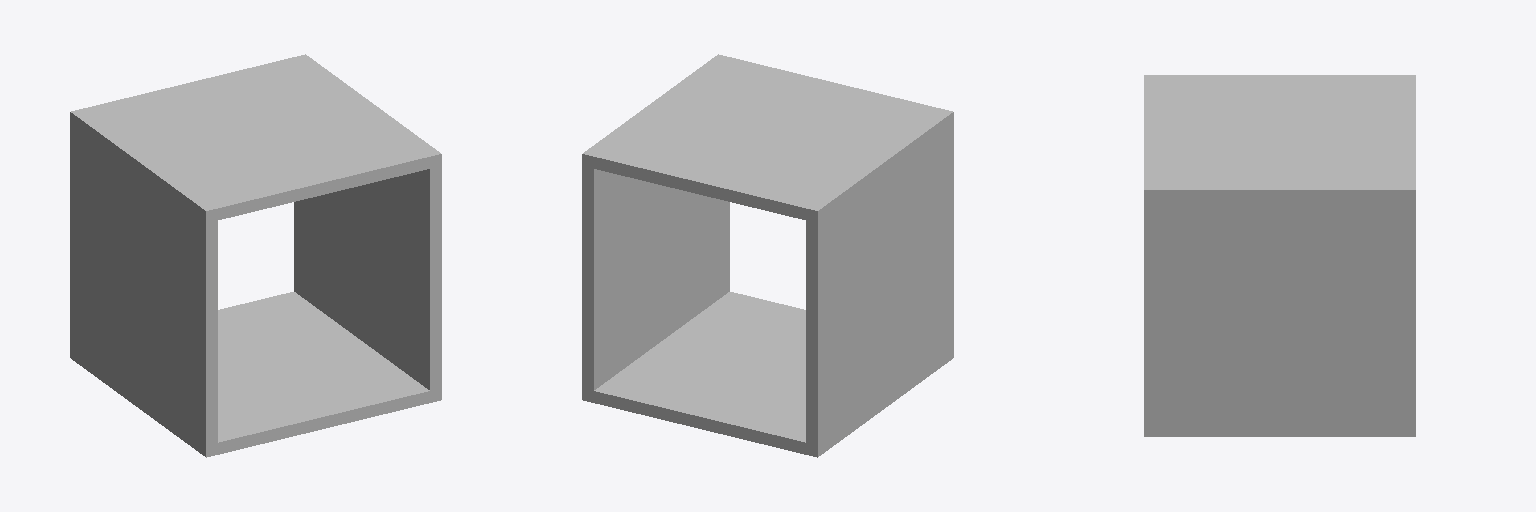
The model's file is HollowCube.obj.
3 views of the same model, side by side, from view 1: azimuth 30°, elevation 25°; view 2: azimuth 150°, elevation 25°; view 3: azimuth 270°, elevation 25° (orthographic).
Parts seen in each view (by area): view 1: Mesh1 Component_3_1 Model; view 2: Mesh1 Component_3_1 Model; view 3: Mesh1 Component_3_1 Model.
Part boxes in pixels (left/top/right/bottom): Mesh1 Component_3_1 Model: left=70, top=54, right=441, bottom=457; Mesh1 Component_3_1 Model: left=582, top=54, right=953, bottom=457; Mesh1 Component_3_1 Model: left=1144, top=75, right=1415, bottom=436.
Bounding box in the file's own units: 157 × 157 × 157.